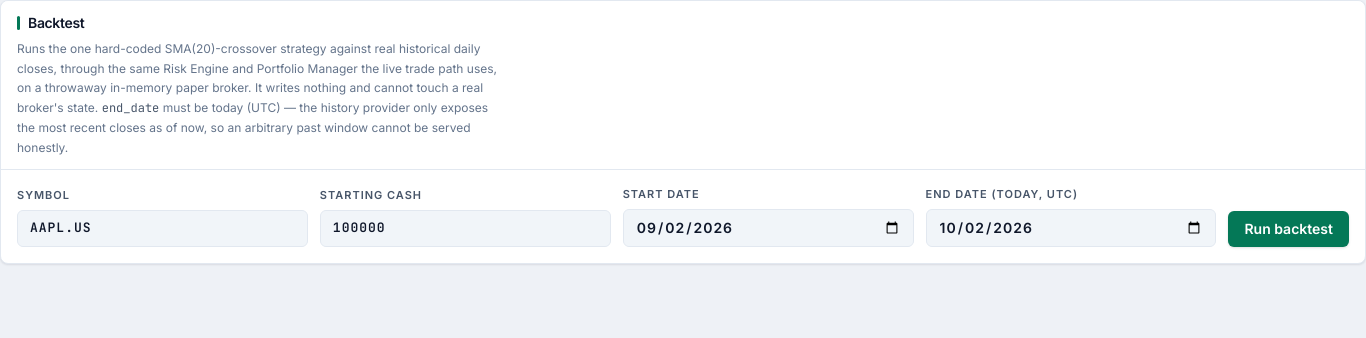
Test case: BacktestPanel › surfaces the real NOT_CONFIGURED sentinel when no history provider is wired
Click the button "Run backtest": click(1289, 228) [1228,210,1349,246]
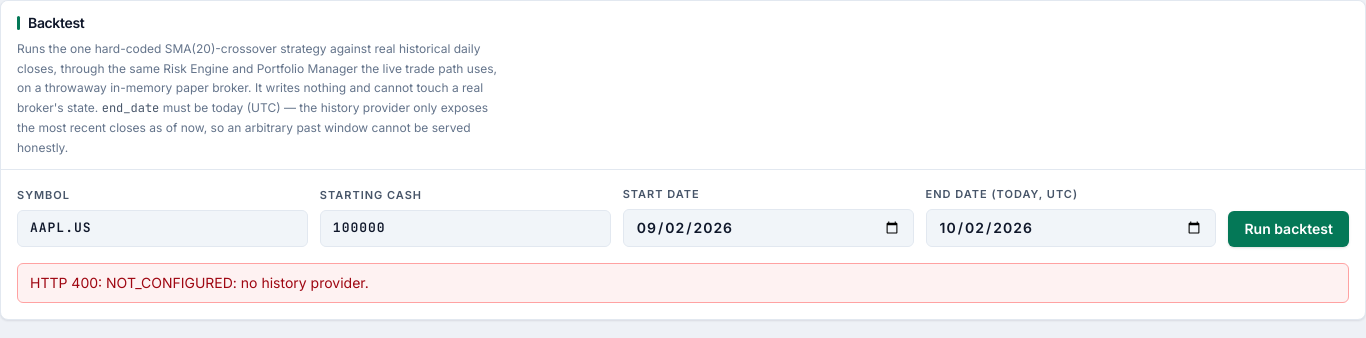
Result: the text "HTTP 400: NOT_CONFIGURED: no history provider." is shown at [17,262,1349,303]
